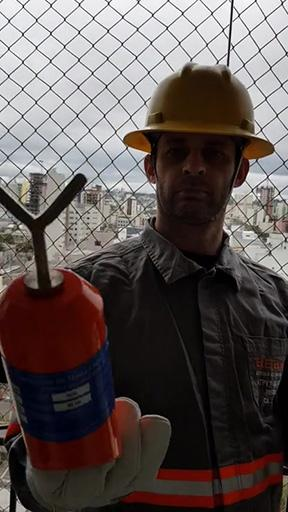Detector_Tensao_Contato: (1, 171, 126, 475)
